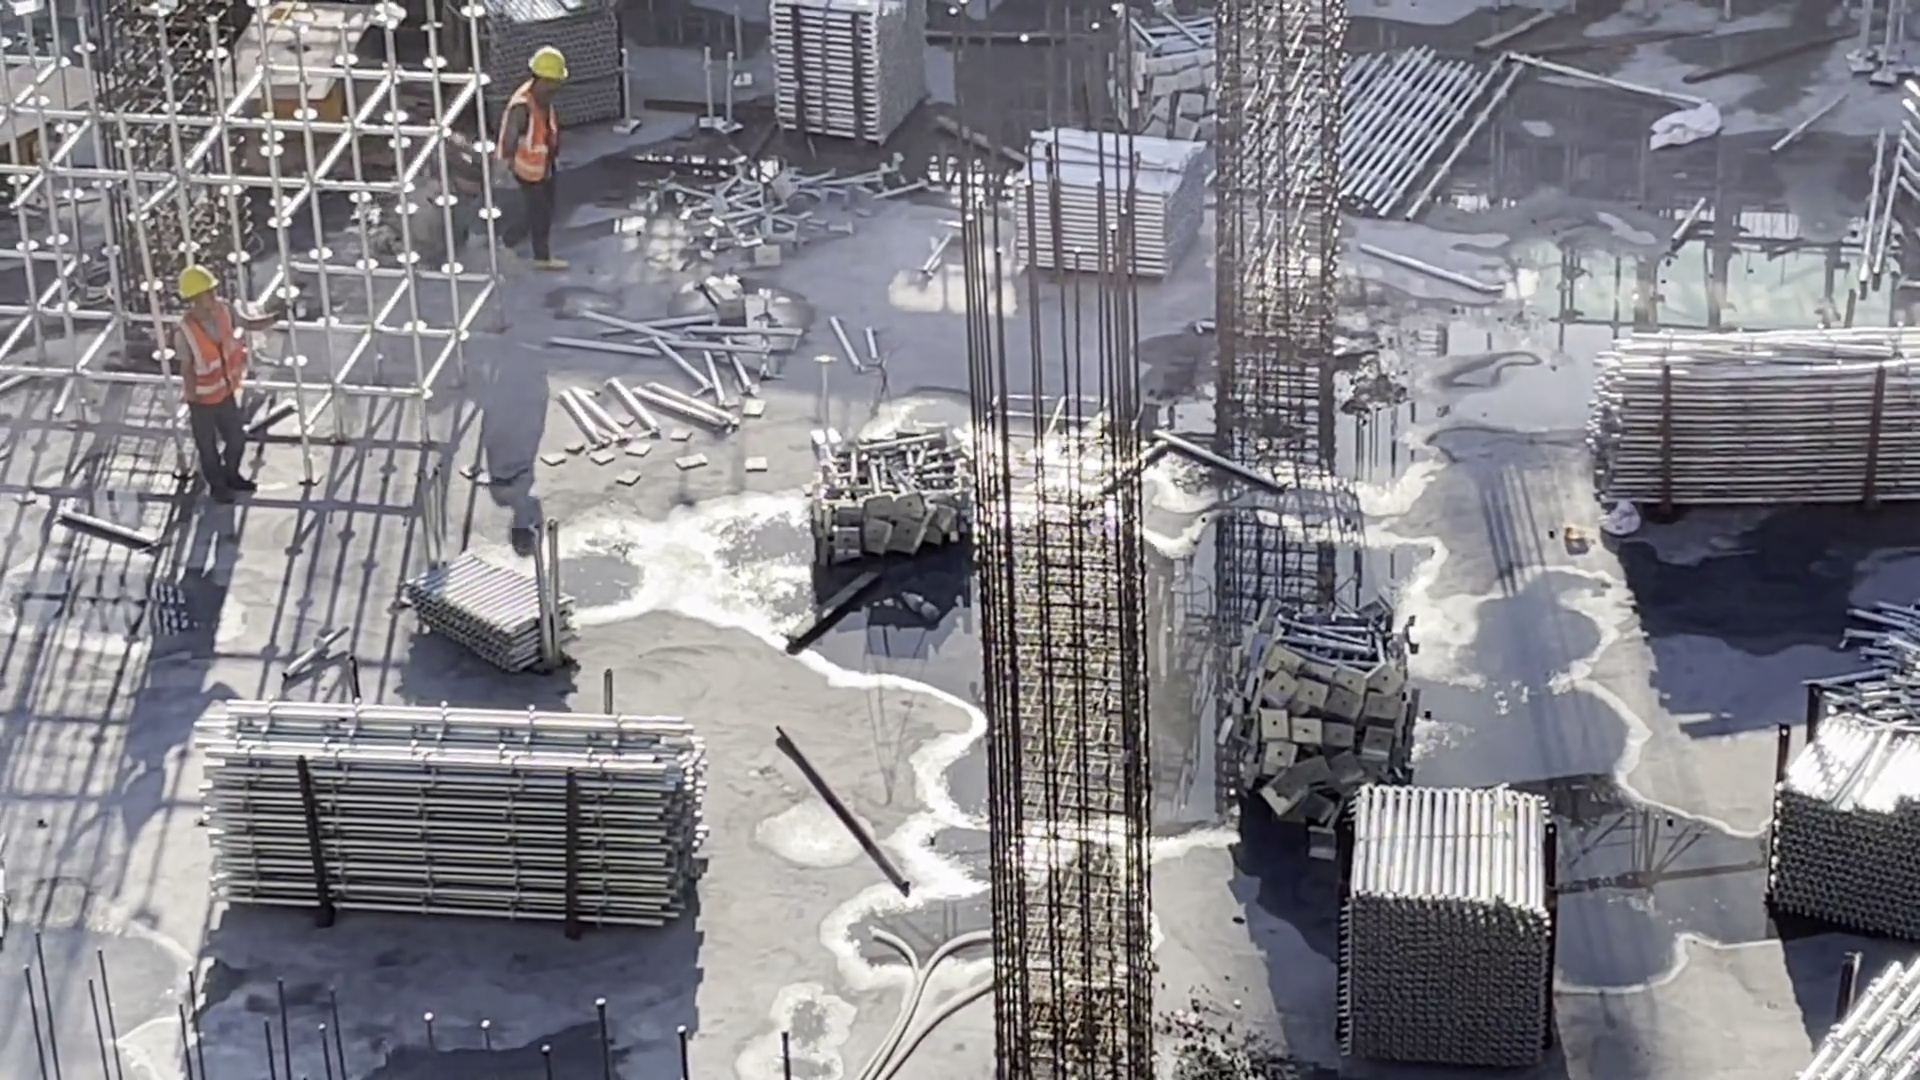cutter: (215, 8, 381, 128), (1, 53, 114, 183)
helmet: (529, 43, 573, 85), (170, 257, 218, 295)
person: (152, 261, 284, 489), (485, 30, 591, 263)
scaffold: (215, 694, 688, 932), (1350, 780, 1562, 1061), (1595, 328, 1920, 511), (1230, 616, 1418, 822), (1763, 703, 1920, 923), (1005, 130, 1202, 278), (815, 427, 985, 561), (454, 1, 632, 127), (777, 1, 933, 141), (418, 541, 567, 666), (1110, 13, 1242, 154), (1773, 954, 1909, 1080), (1843, 594, 1920, 705)
vest: (179, 298, 255, 406), (501, 91, 568, 187)
